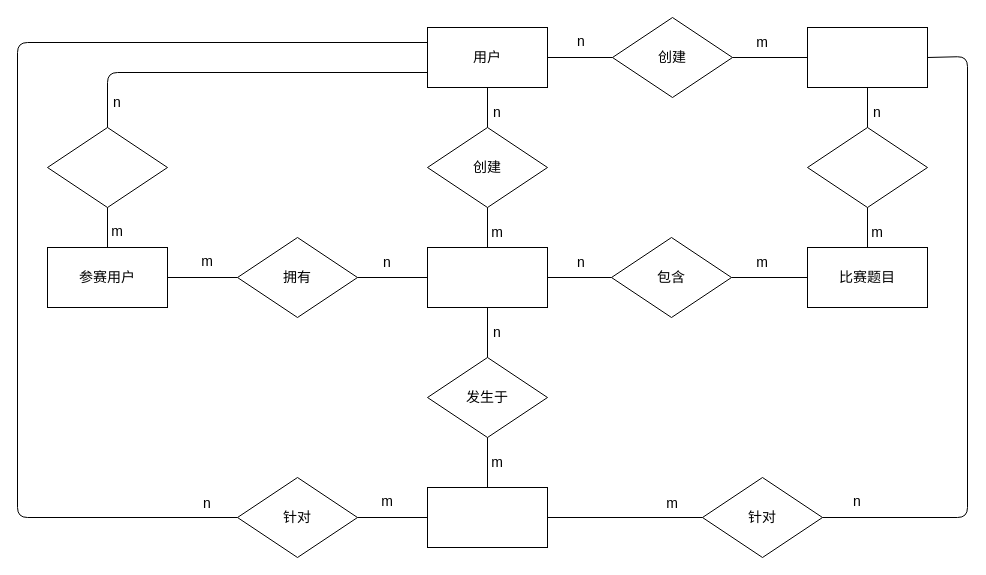
Image size: 986x575. Some labels were removed from this diagram. The centre of each missing label's shape, as x and y in pixels:
参与: point (107, 167)
提交: point (487, 517)
比赛: point (487, 277)
被包含于: point (867, 167)
题目: point (867, 57)
